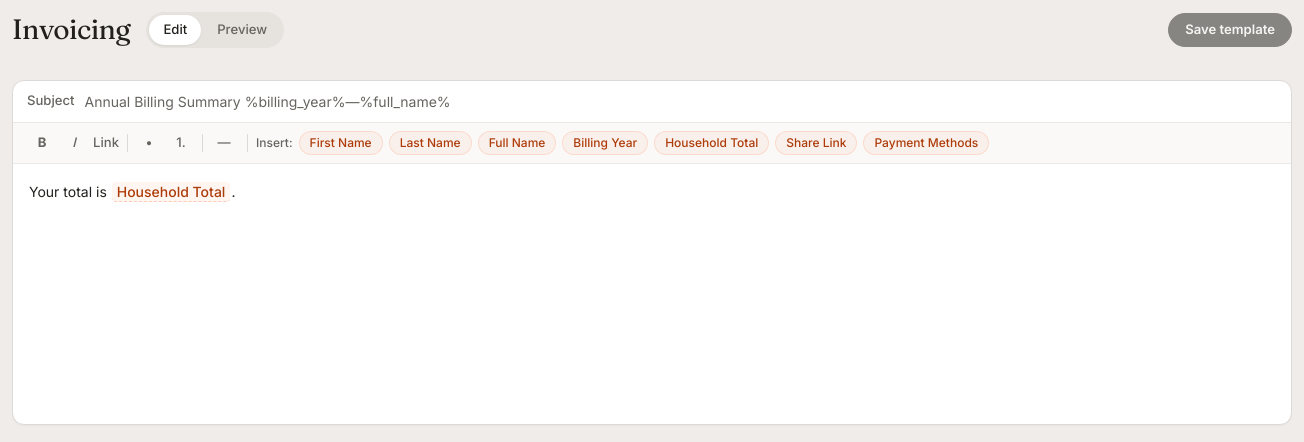
Scenario: InvoicingTab › shows preview metadata when Preview tab is clicked
This screenshot has width=1304, height=442.
Click the button "Preview".
click(242, 30)  # box [203,15,281,45]
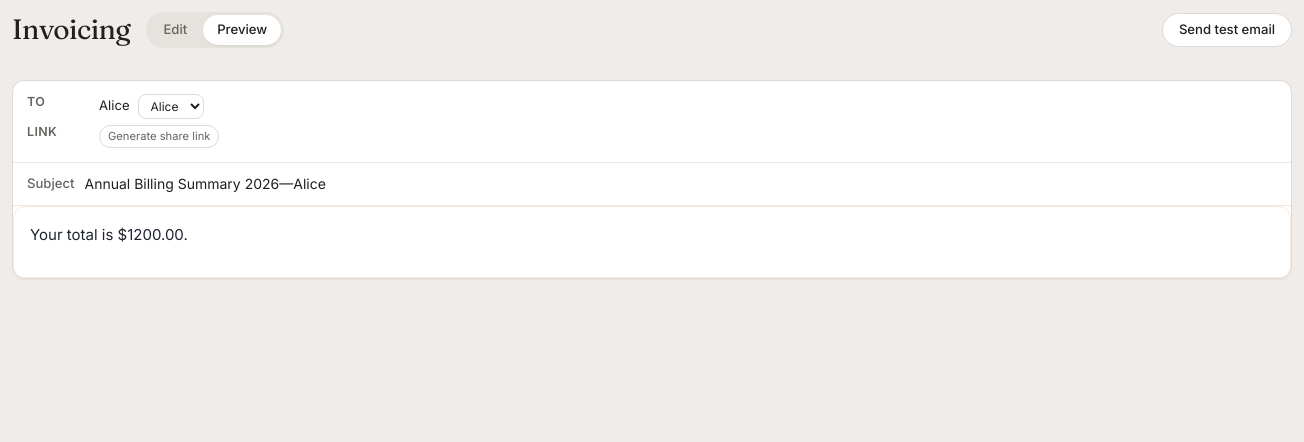
Check: the element with class "template-preview-meta" is shown, box [13,81,1291,163]
Check: the element with class "template-preview-meta" shows "To", box [27,94,45,109]
Check: the element with class "template-preview-meta" shows "Link", box [27,124,57,139]
